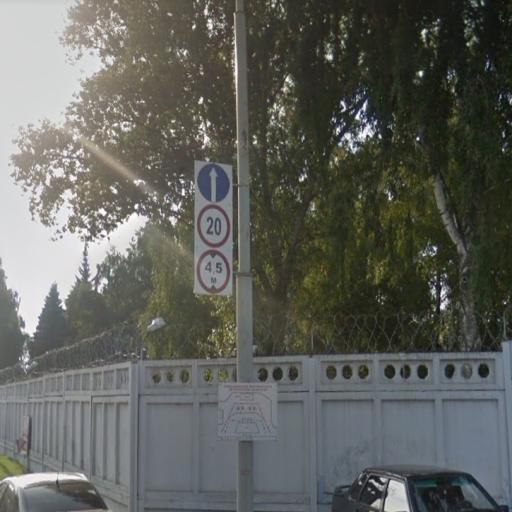traffic_sign: (195, 202, 236, 249)
